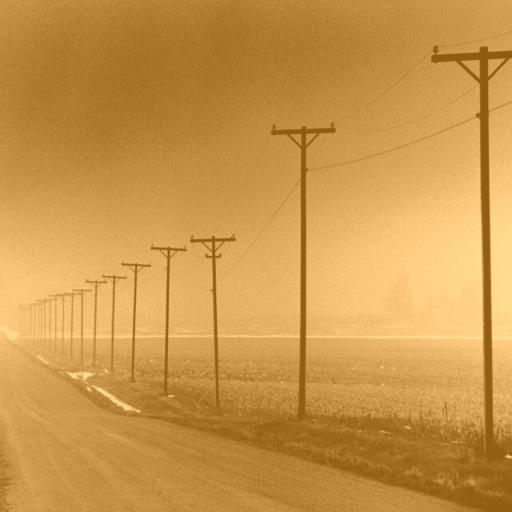Light-pole: (432, 26, 512, 456), (273, 112, 339, 438), (188, 226, 248, 410), (151, 232, 186, 392), (120, 249, 148, 378), (70, 279, 99, 368), (100, 267, 126, 364), (83, 270, 107, 361)
